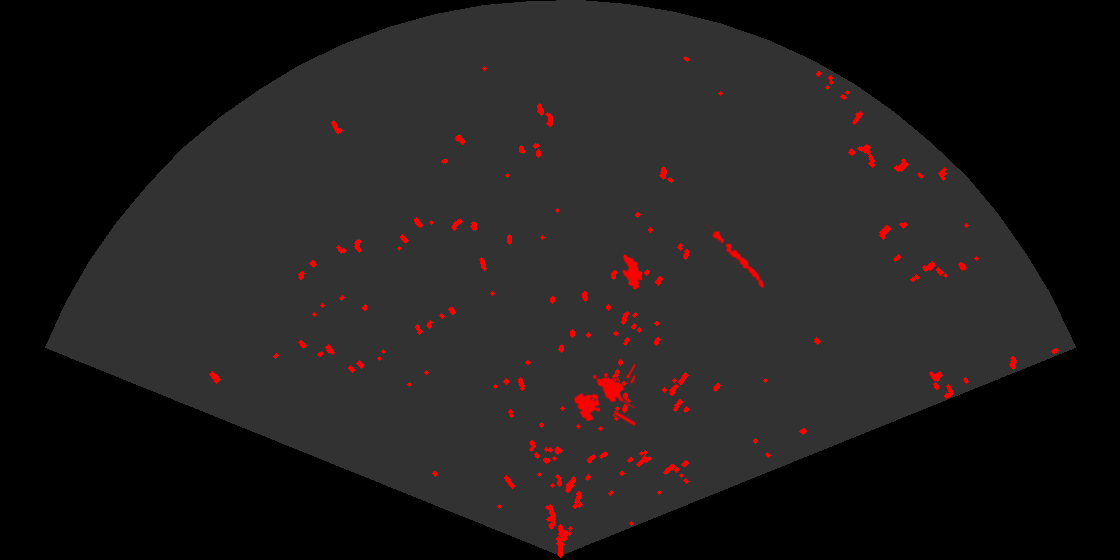AUV: (621, 252, 645, 291)
cage: (572, 362, 635, 428)
chain: (706, 222, 766, 290)
